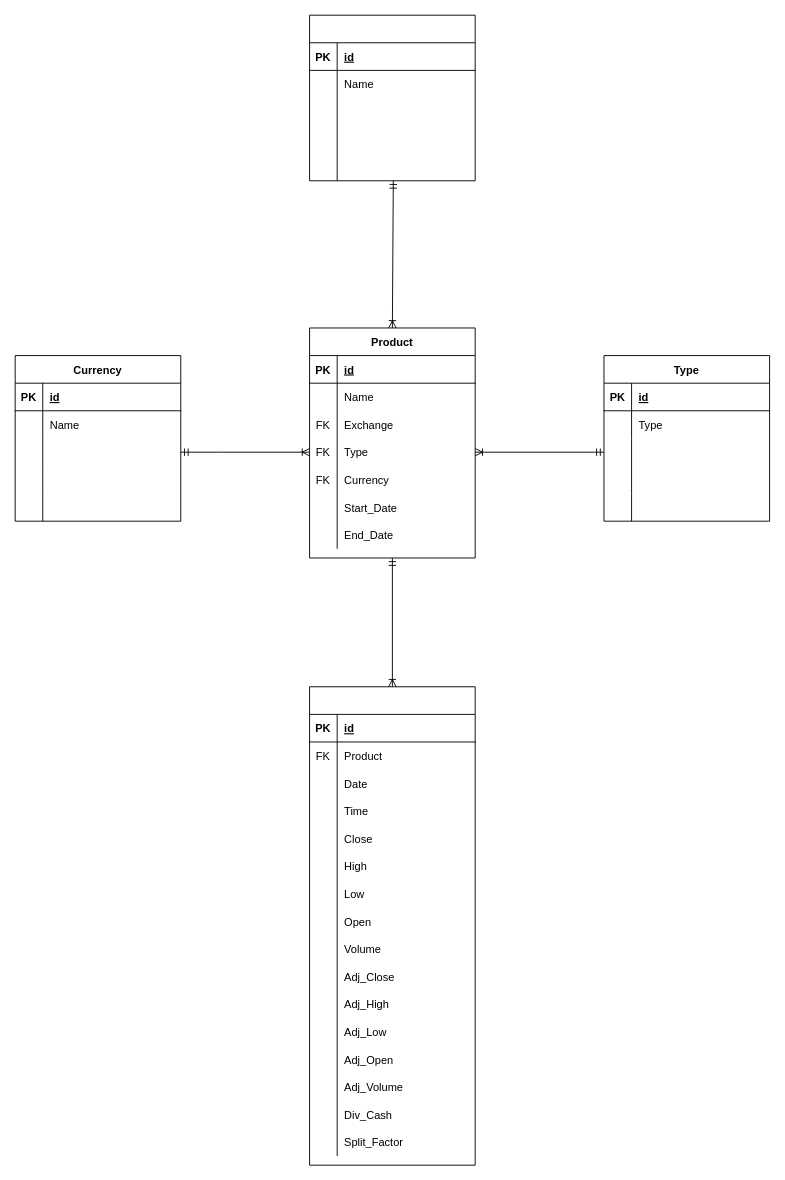
Some shapes in this 785 by 1180 pixel diagram are drawn without their labels. Here are the shapes that lost their labels. From the top down, the box of each, then its label:
(309, 14, 475, 181): Financial_Exchange
(309, 686, 475, 1165): Values
